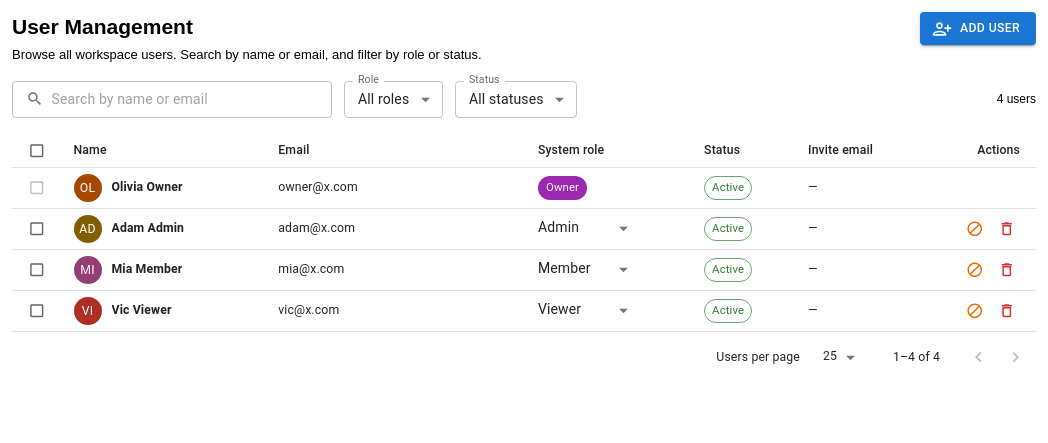
Test: UserManagementPage — bulk delete › shows the selected count when rows are checked
Expected: the text "Mia Member" is shown, [112,261,182,278]
Click the checkbox named "Select Mia Member". click: (37, 270)
box: [28,261,46,278]
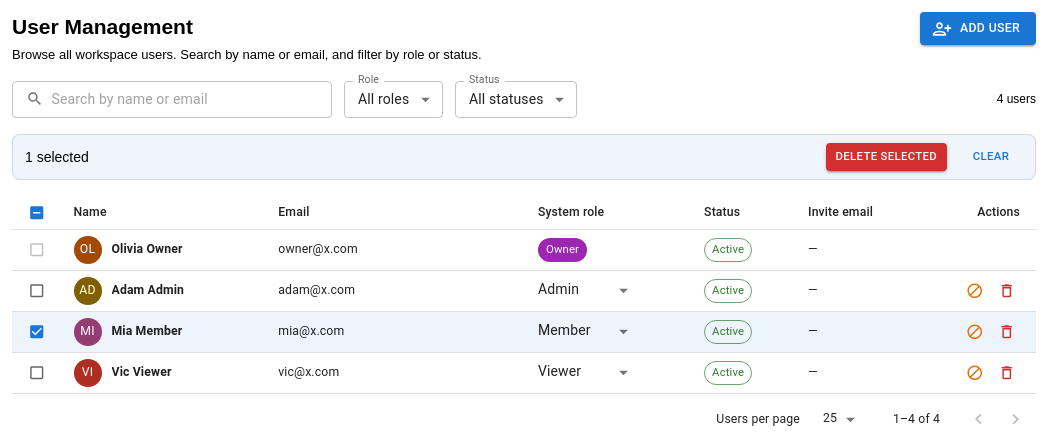
Click the checkbox named "Select Vic Viewer". click: (37, 373)
box: [28,364,46,381]
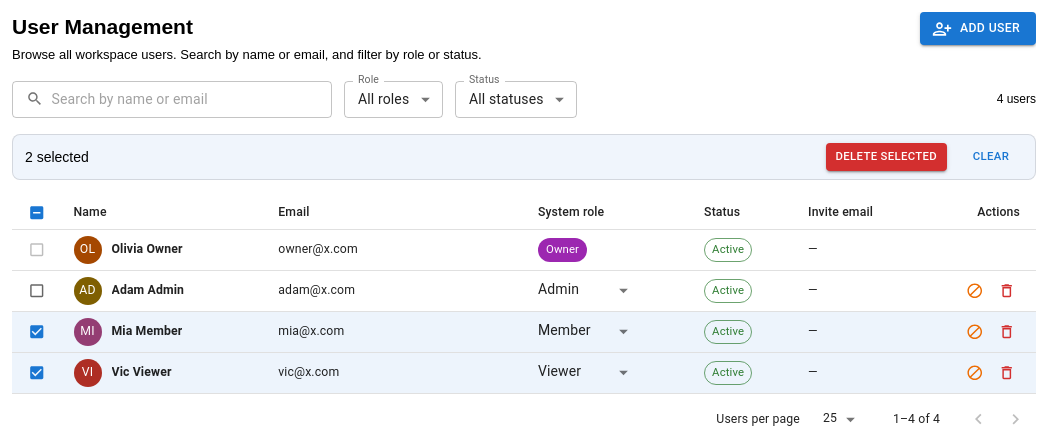
Result: the text "2 selected" is shown at [25,147,89,167]
